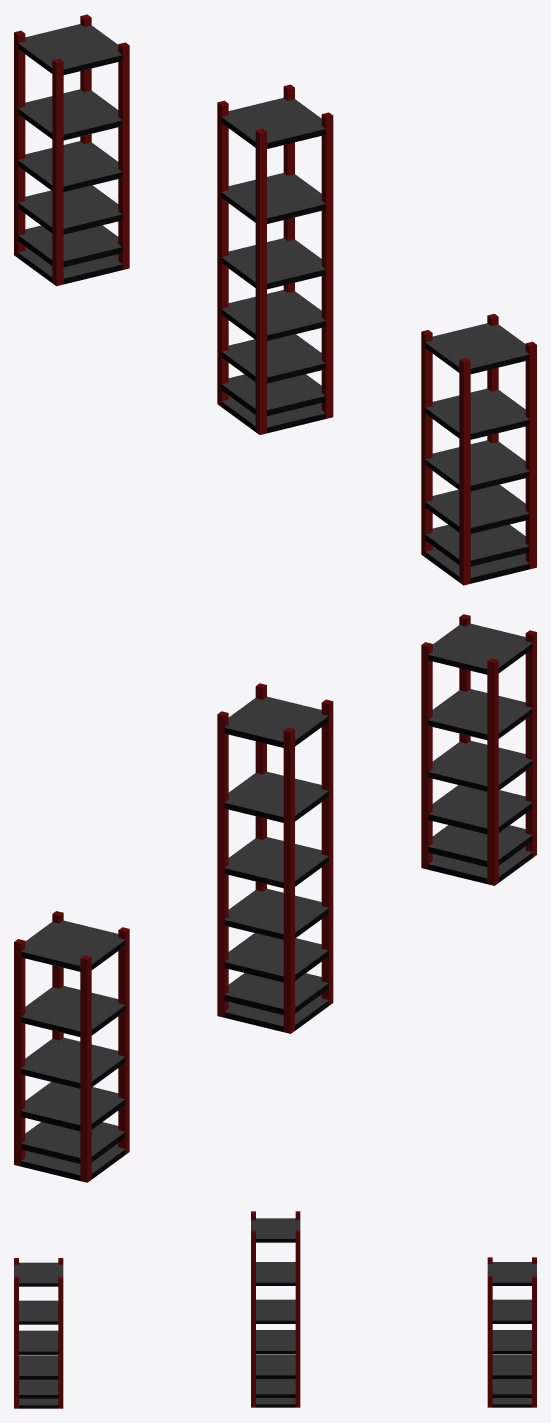
The model's file is towers.glb.
3 renders of one model, top to bottom at view 1: azimuth 30°, elevation 25°; view 2: azimuth 150°, elevation 25°; view 3: azimuth 270°, elevation 25°, orthographic. The views are drawn at different scales.
Visible parts, largest first — view 1: Sketchup, Sketchup.001, Sketchup.002, Sketchup.020, Sketchup.040; view 2: Sketchup, Sketchup.001, Sketchup.002, Sketchup.020, Sketchup.040; view 3: Sketchup, Sketchup.001, Sketchup.002, Sketchup.020.
Part boxes in pixels (x1=…): Sketchup: x1=18, y1=24, x2=529, y2=577; Sketchup.001: x1=14, y1=14, x2=536, y2=585; Sketchup.002: x1=18, y1=44, x2=529, y2=583; Sketchup.020: x1=222, y1=98, x2=325, y2=142; Sketchup.040: x1=255, y1=131, x2=259, y2=434; Sketchup: x1=21, y1=623, x2=532, y2=1175; Sketchup.001: x1=14, y1=615, x2=536, y2=1182; Sketchup.002: x1=21, y1=643, x2=532, y2=1180; Sketchup.020: x1=225, y1=697, x2=328, y2=982; Sketchup.040: x1=329, y1=701, x2=333, y2=1005; Sketchup: x1=14, y1=1262, x2=536, y2=1405; Sketchup.001: x1=14, y1=1211, x2=536, y2=1408; Sketchup.002: x1=19, y1=1218, x2=531, y2=1408; Sketchup.020: x1=251, y1=1218, x2=300, y2=1238.
Bounding box in the file's own units: 0.5085 × 2 × 5.39.
